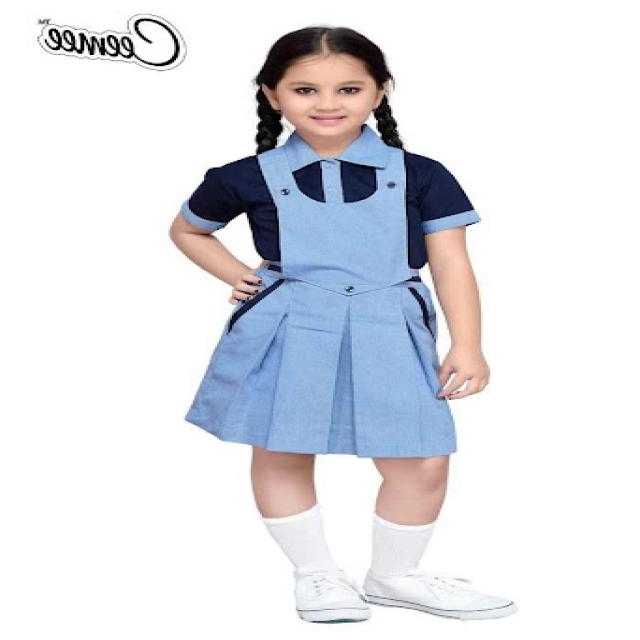child: (151, 12, 511, 618)
